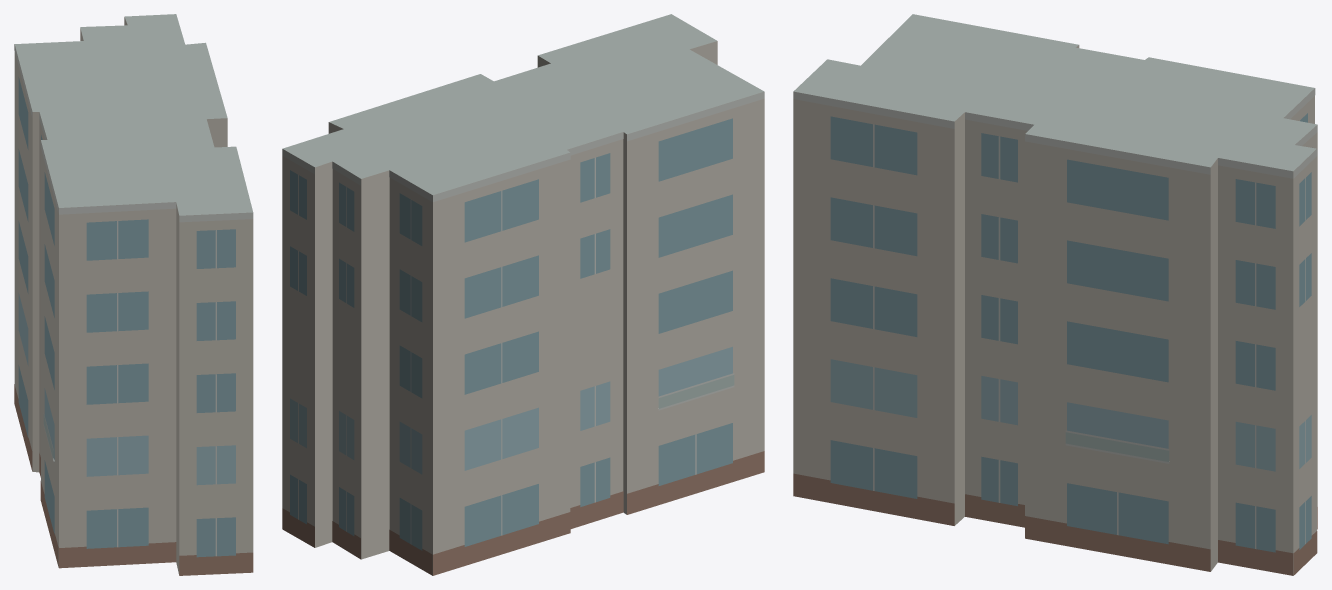
Rendered from survey-upis-32756364.glb.
3 views of the same model, side by side, from view 1: azimuth 30°, elevation 25°; view 2: azimuth 150°, elevation 25°; view 3: azimuth 270°, elevation 25° (orthographic). The views are drawn at different scales.
Visible parts, largest first — view 1: survey-upis-32756364.tmp; view 2: survey-upis-32756364.tmp; view 3: survey-upis-32756364.tmp.
Part boxes in pixels (x1,y1,x2,y2): survey-upis-32756364.tmp: (14, 14, 253, 575); survey-upis-32756364.tmp: (282, 14, 764, 575); survey-upis-32756364.tmp: (793, 14, 1317, 575).
Bounding box in the file's own units: 11.06 × 13.25 × 15.57.
